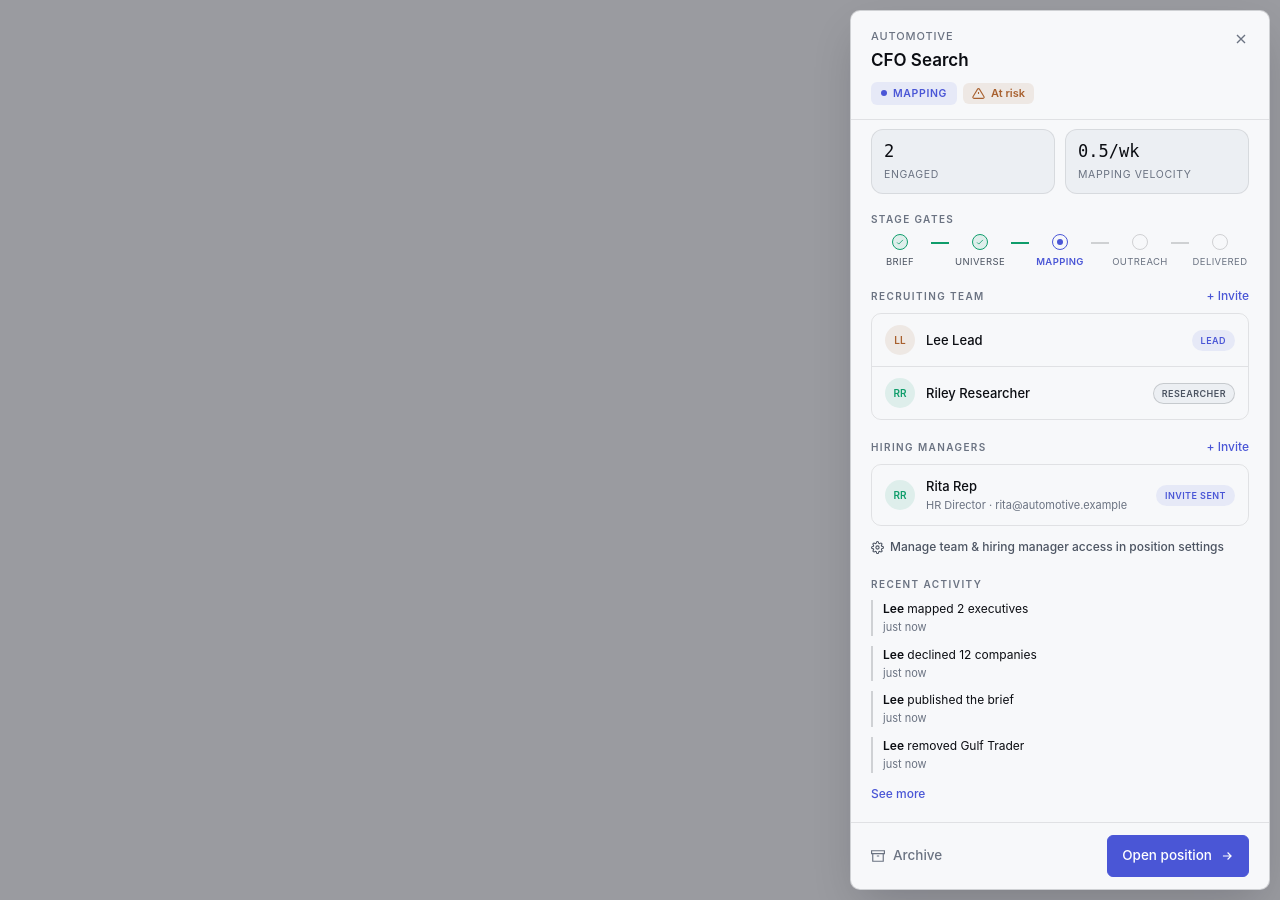
Test case: ProjectDrawer › merges a run of one person's work into one activity line and pages on See more
(page scrolled)
Expected: the text "mapped 2 executives" is shown, [907,601,1028,616]
Expected: the text "declined 12 companies" is shown, [907,646,1037,662]
Click the button "See more" at x=898, y=794, box [871,785,925,803]
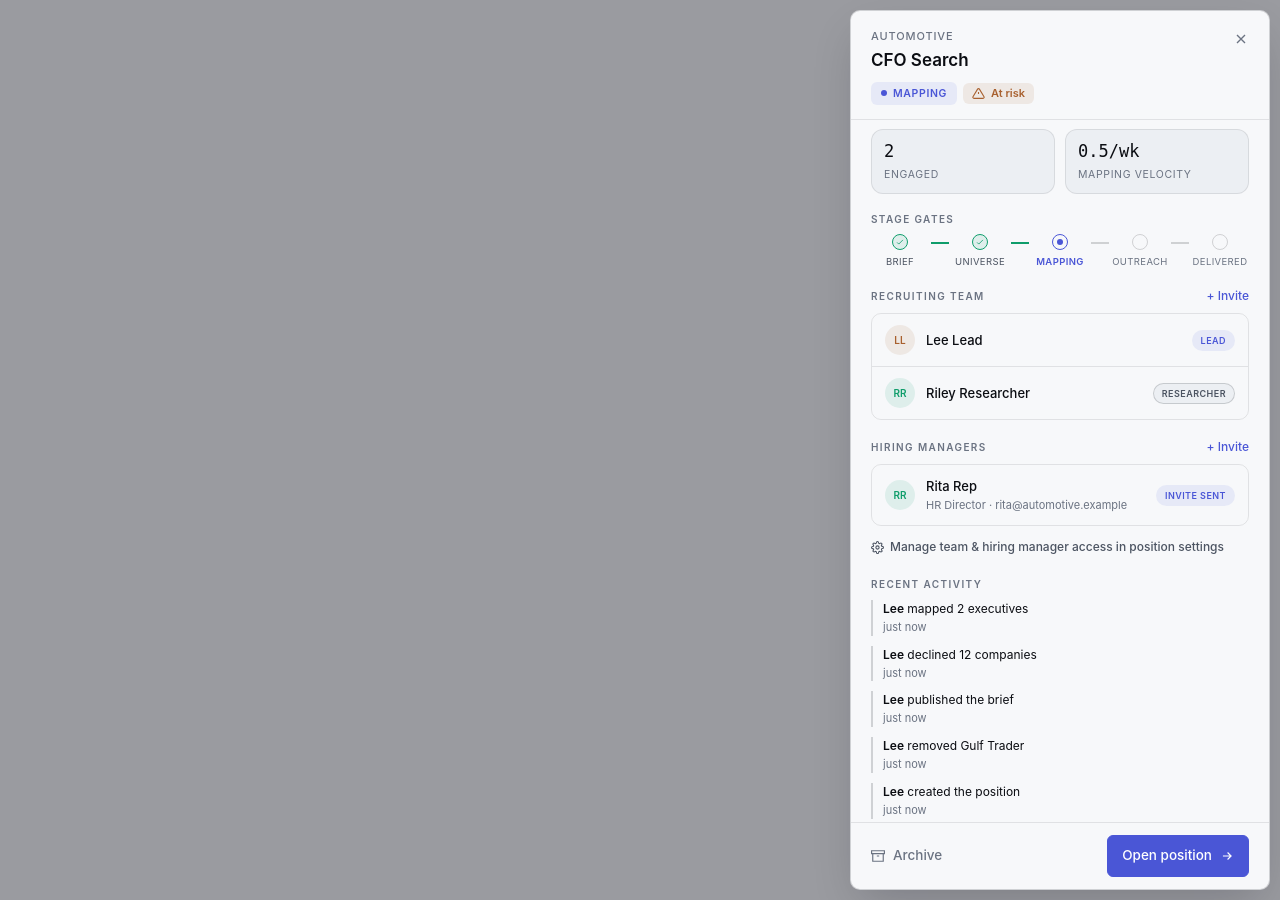
Result: the text "created the position" is shown at [907,784,1020,799]
Result: the button "See more" is gone
